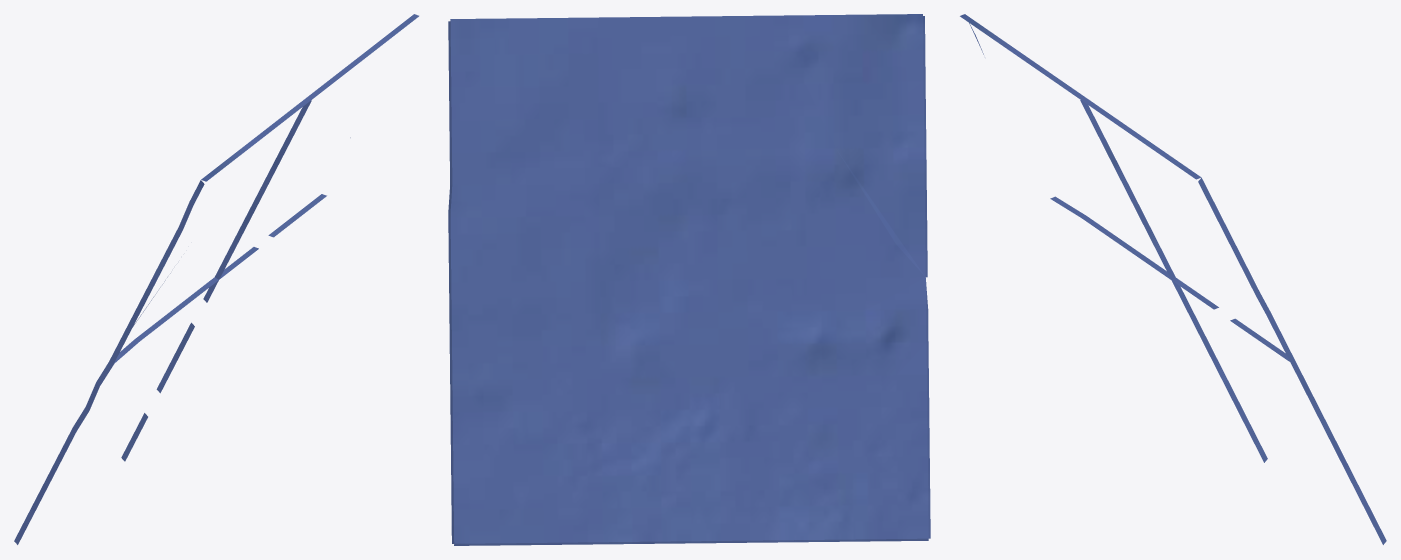
3 renders of one model, left to right at view 1: azimuth 30°, elevation 25°; view 2: azimuth 150°, elevation 25°; view 3: azimuth 270°, elevation 25°, orthographic. The views are drawn at different scales.
Size of the model in its own units: 39387 by 35725 by 33413.
Materials: 1 (1 with a texture image).
